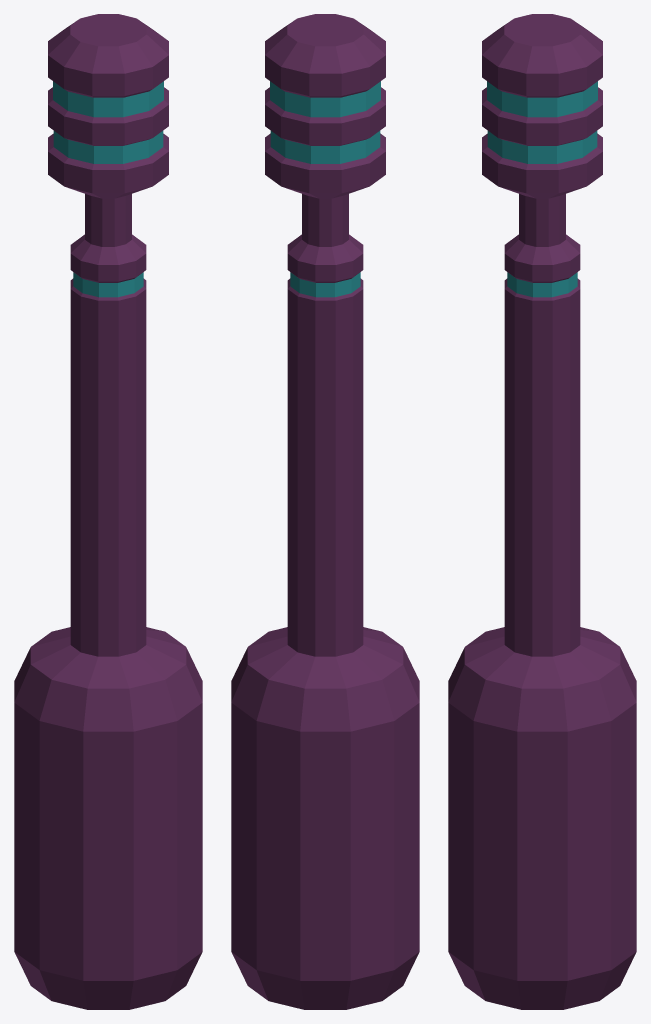
The model's file is TallLight.fbx.
The picture shows the model from 3 angles, left to right: view 1: azimuth 30°, elevation 25°; view 2: azimuth 150°, elevation 25°; view 3: azimuth 270°, elevation 25°; orthographic projection.
Parts seen in each view (by area): view 1: Light; view 2: Light; view 3: Light.
Part boxes in pixels (x1,y1,x2,y2): Light: [14, 14, 202, 1009]; Light: [231, 14, 419, 1009]; Light: [448, 14, 636, 1009].
Bounding box in the file's own units: 34.02 × 192 × 34.02.
